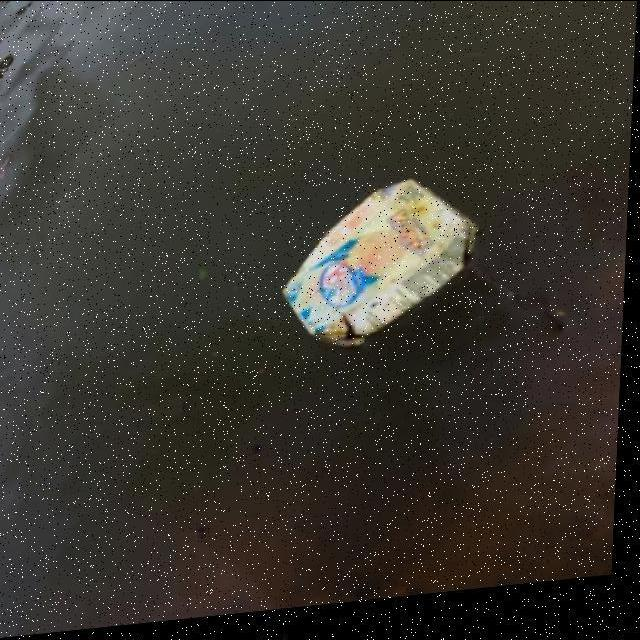Box: (276, 170, 484, 352)
